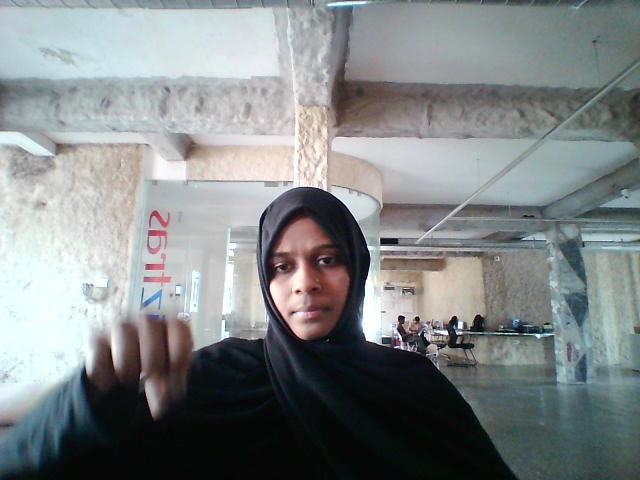YES: (74, 308, 225, 447)
